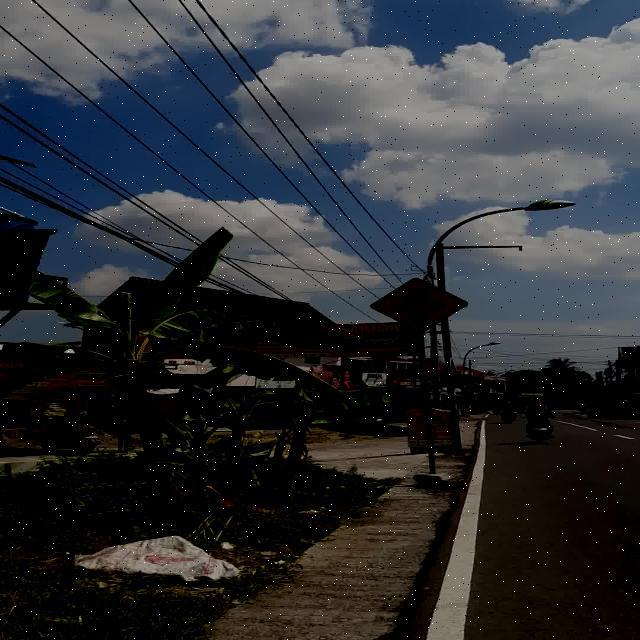Persimpangan 3 Prioritas: (370, 278, 468, 332)
